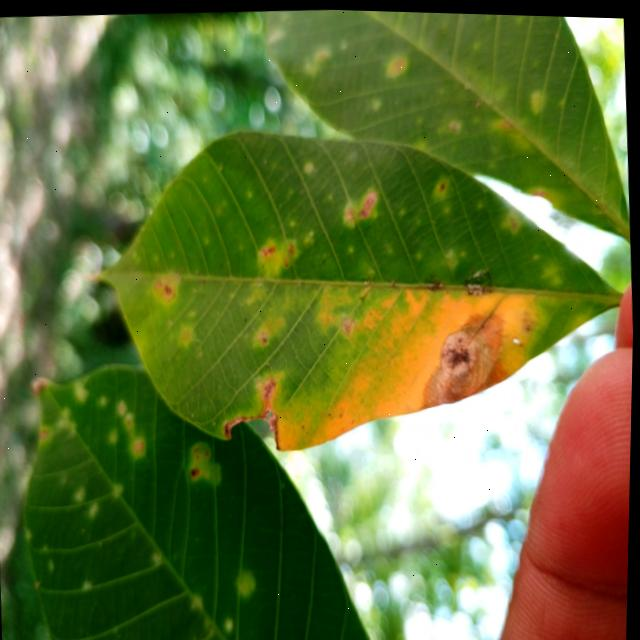Leaf-Blight: (420, 303, 511, 406)
